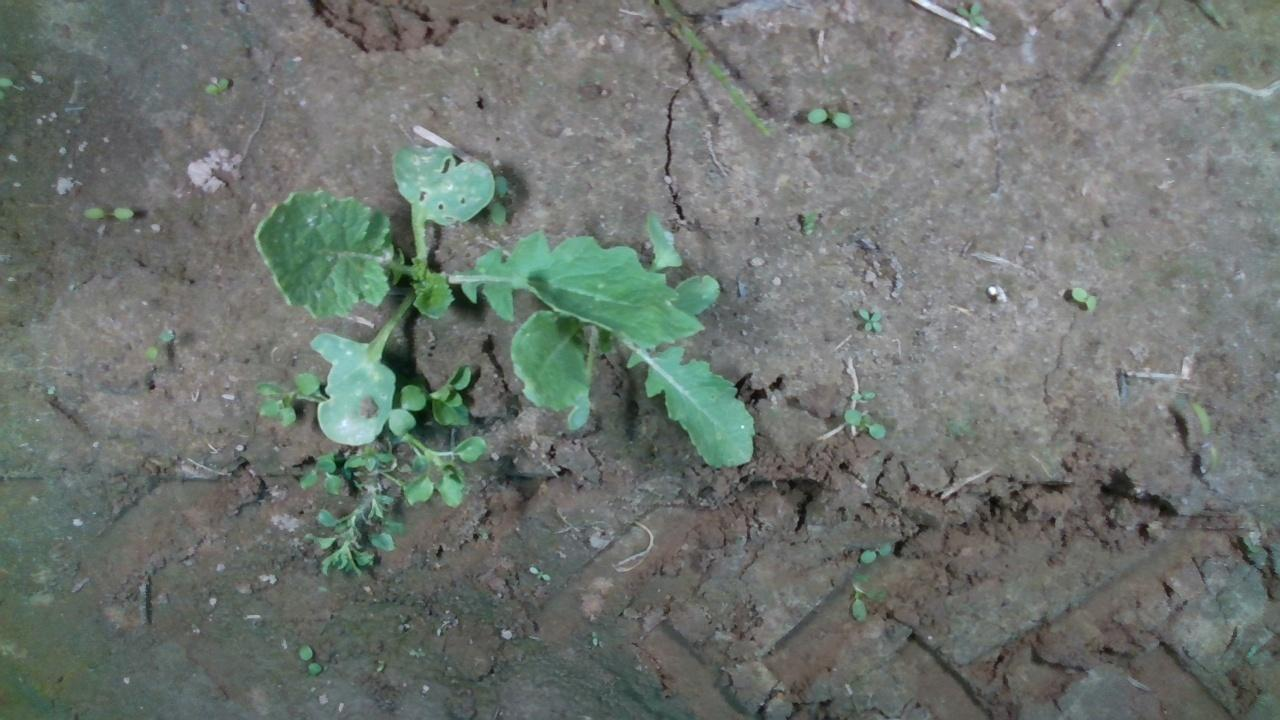weed: (1188, 398, 1219, 478), (842, 407, 887, 439), (141, 325, 175, 363), (954, 0, 991, 32), (804, 106, 852, 128), (79, 204, 134, 221), (297, 643, 323, 677), (855, 305, 882, 334), (1068, 285, 1098, 310), (858, 540, 891, 562), (201, 76, 229, 95), (848, 390, 876, 401)
